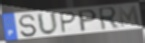M: (117, 5, 142, 29)
P: (77, 8, 99, 33), (59, 11, 78, 35)
R: (97, 6, 120, 32)
S: (18, 14, 39, 38)
U: (36, 11, 60, 37)
